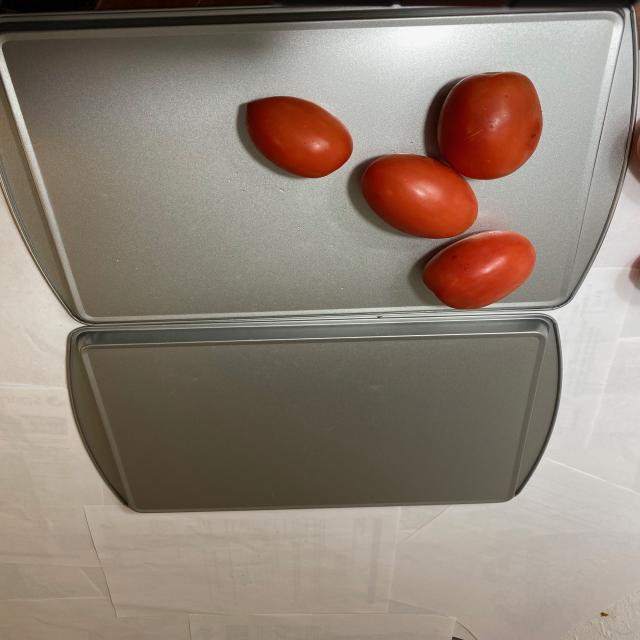tomato: (228, 70, 548, 308)
